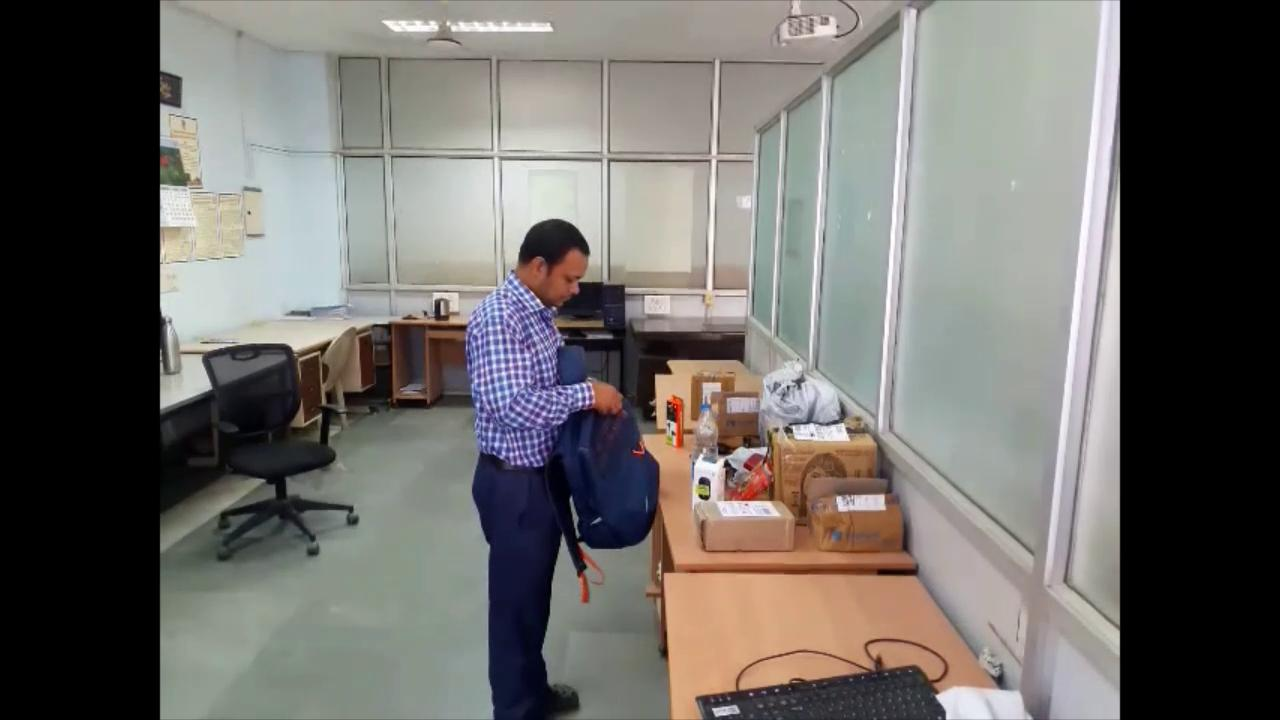shoplifting: (454, 212, 665, 719)
